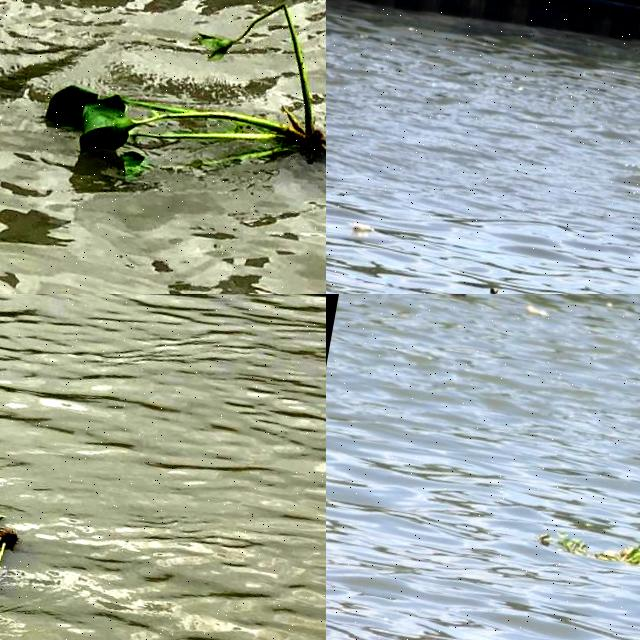water-hyacinth: (32, 1, 327, 215), (549, 512, 640, 587)
